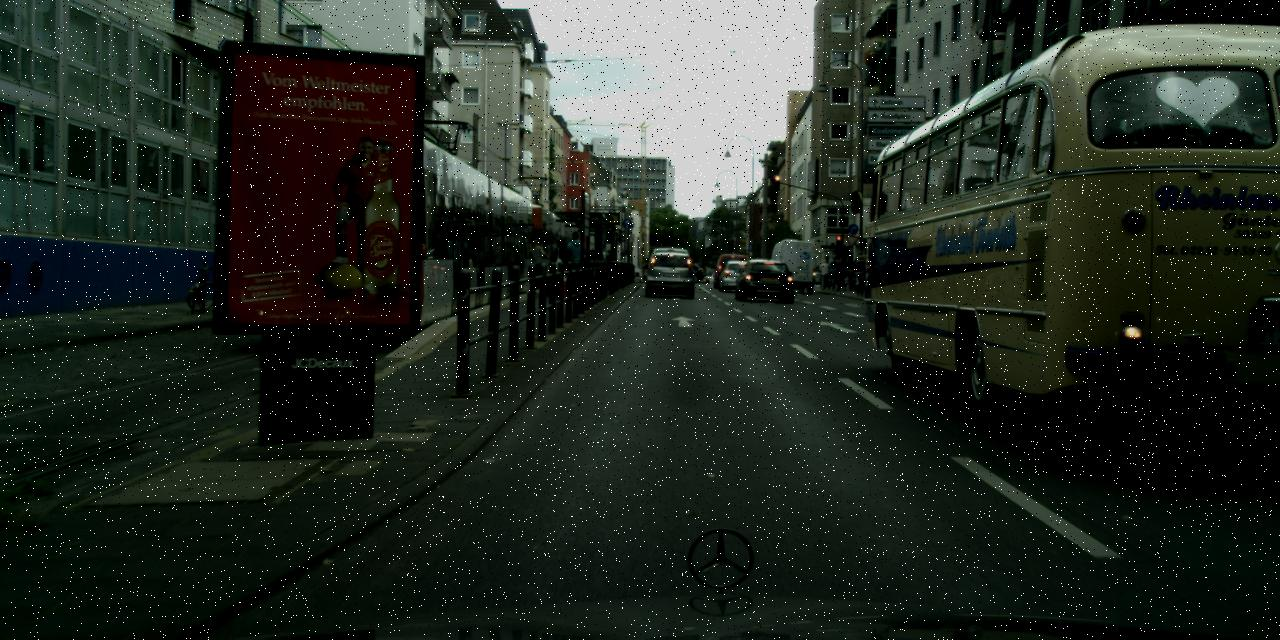ped: (564, 230, 588, 290), (550, 239, 572, 294), (526, 239, 546, 292), (853, 254, 868, 290), (835, 254, 849, 288), (826, 254, 839, 285), (617, 252, 628, 280), (818, 260, 828, 288)
